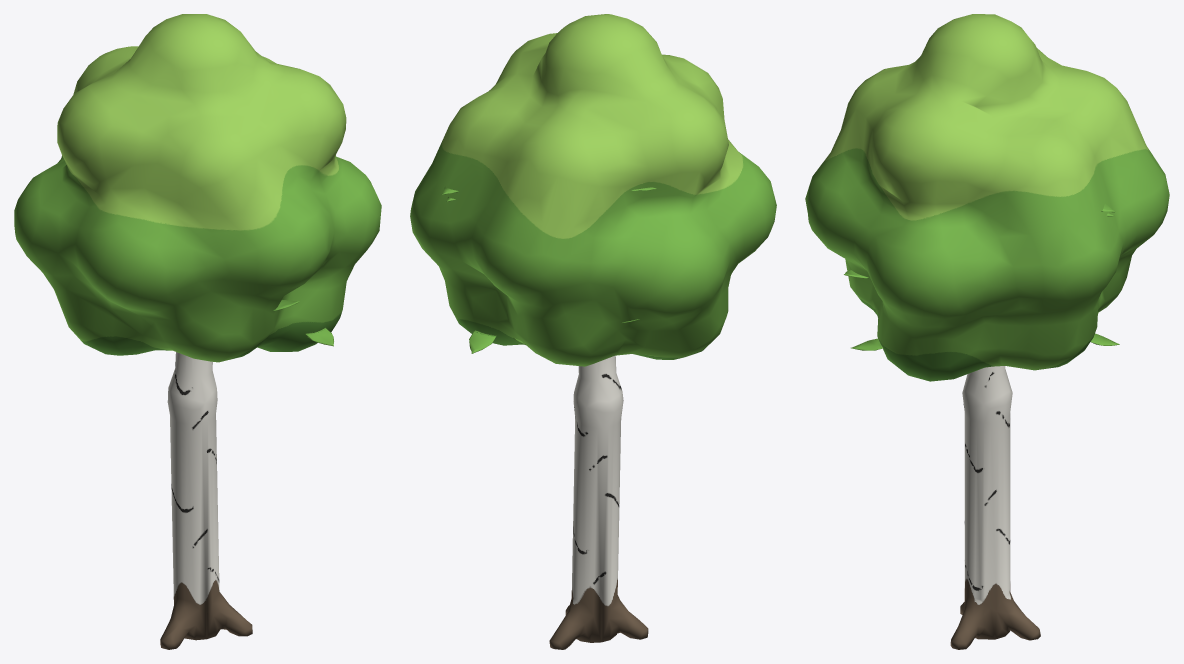
Rendered from Birch.fbx.
3 views of the same model, side by side, from view 1: azimuth 30°, elevation 25°; view 2: azimuth 150°, elevation 25°; view 3: azimuth 270°, elevation 25° (orthographic).
Visible parts, largest first — view 1: Birch; view 2: Birch; view 3: Birch.
Boxes of the visible parts, bbox=[...] form: Birch: bbox=[14, 14, 381, 649]; Birch: bbox=[410, 14, 776, 649]; Birch: bbox=[805, 14, 1169, 649].
Bounding box in the file's own units: 2.41 × 4.71 × 2.56.
Materials: 1 (1 with a texture image).
